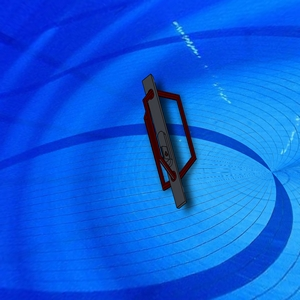submarine: (130, 72, 203, 211)
